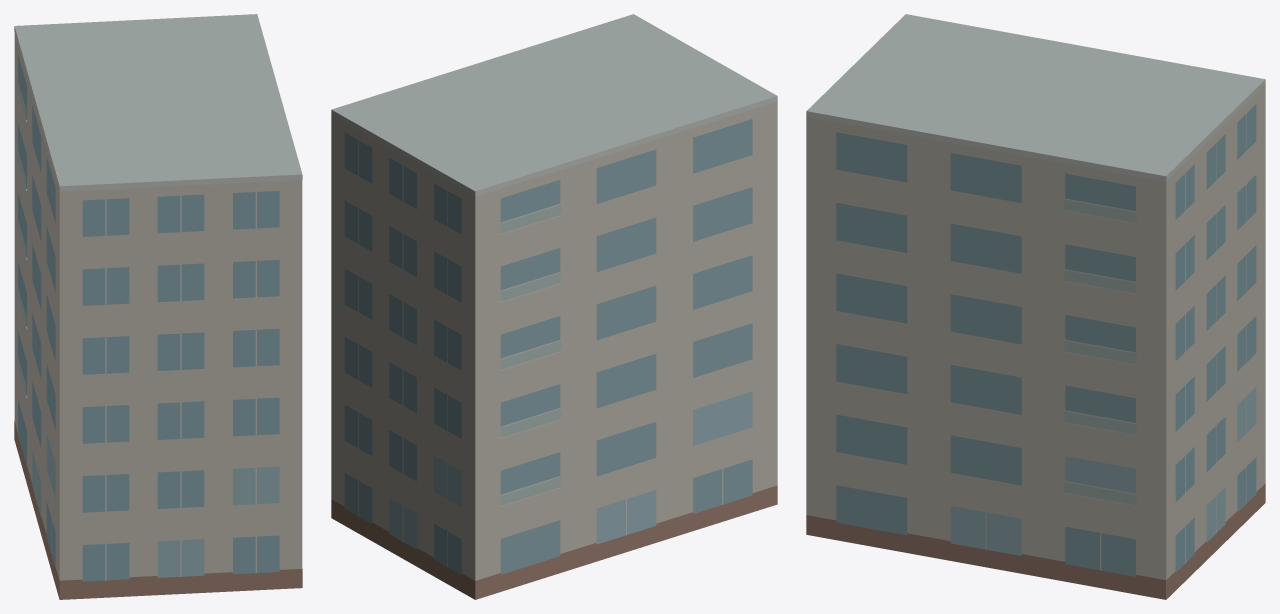
Rendered from survey-upis-33044248.glb.
The picture shows the model from 3 angles, left to right: view 1: azimuth 30°, elevation 25°; view 2: azimuth 150°, elevation 25°; view 3: azimuth 270°, elevation 25°; orthographic projection. The views are drawn at different scales.
Parts seen in each view (by area): view 1: survey-upis-33044248.tmp; view 2: survey-upis-33044248.tmp; view 3: survey-upis-33044248.tmp.
Boxes of the visible parts, x1,y1,x2,y2 form: survey-upis-33044248.tmp: [14, 14, 302, 599]; survey-upis-33044248.tmp: [331, 14, 777, 599]; survey-upis-33044248.tmp: [806, 14, 1265, 599].
Bounding box in the file's own units: 15.05 × 18.3 × 17.99.
